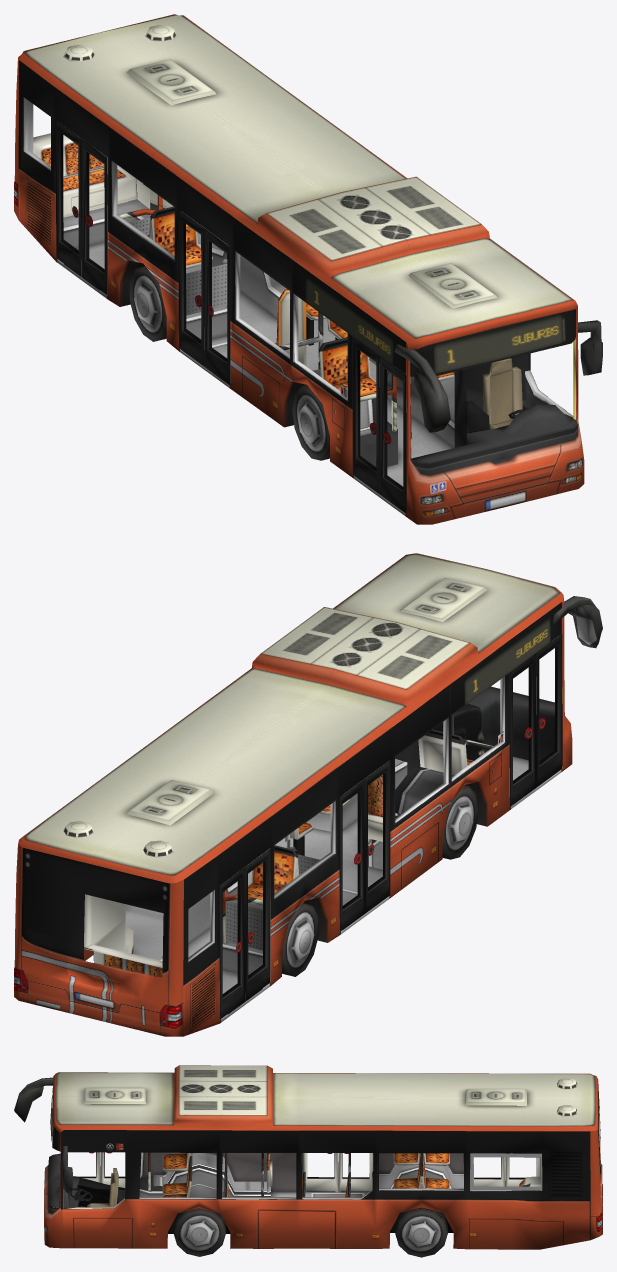
Rendered from bus.obj.
3 renders of one model, top to bottom at view 1: azimuth 30°, elevation 25°; view 2: azimuth 150°, elevation 25°; view 3: azimuth 270°, elevation 25°, orthographic. The views are drawn at different scales.
Size of the model in its own units: 7.52 by 7.26 by 27.06.
3 materials, 3 textured.
